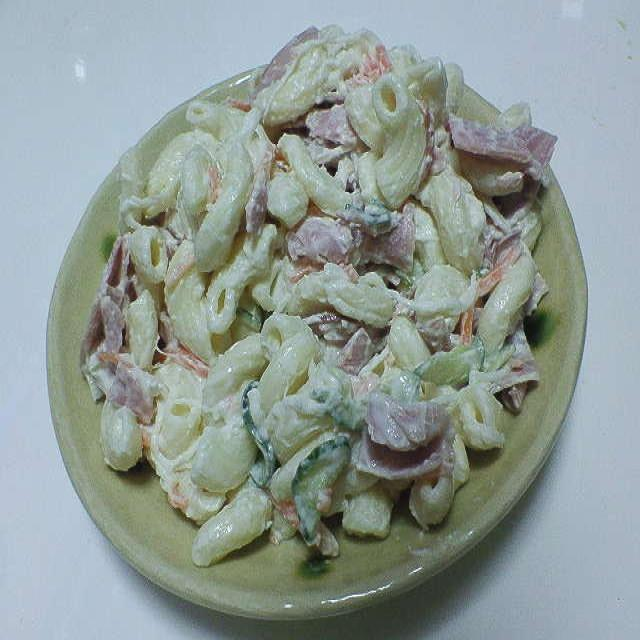蔬菜料理: (30, 17, 380, 402)
